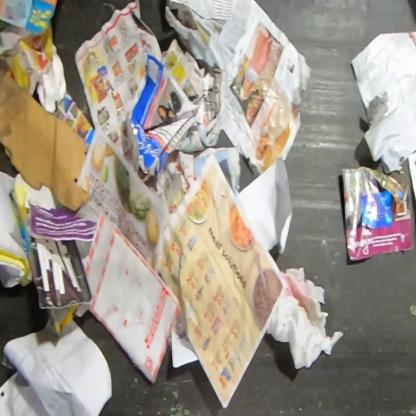cardboard: (82, 210, 183, 386), (0, 66, 91, 214), (12, 174, 58, 212)
